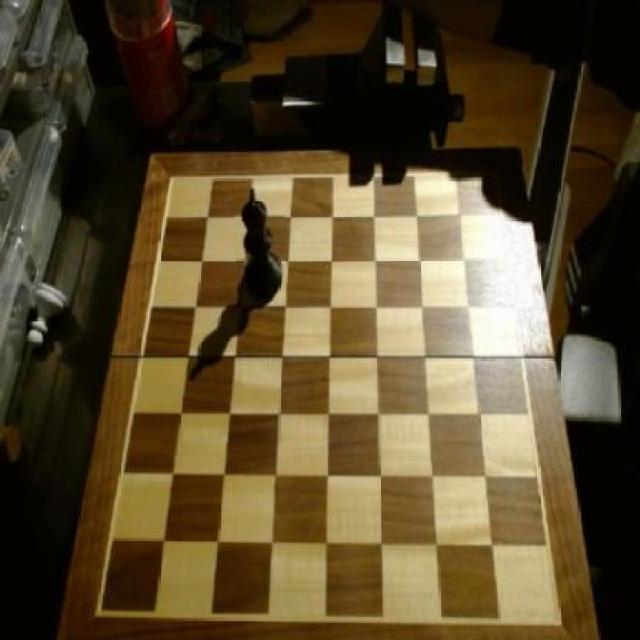black-bishop: (237, 197, 288, 311)
